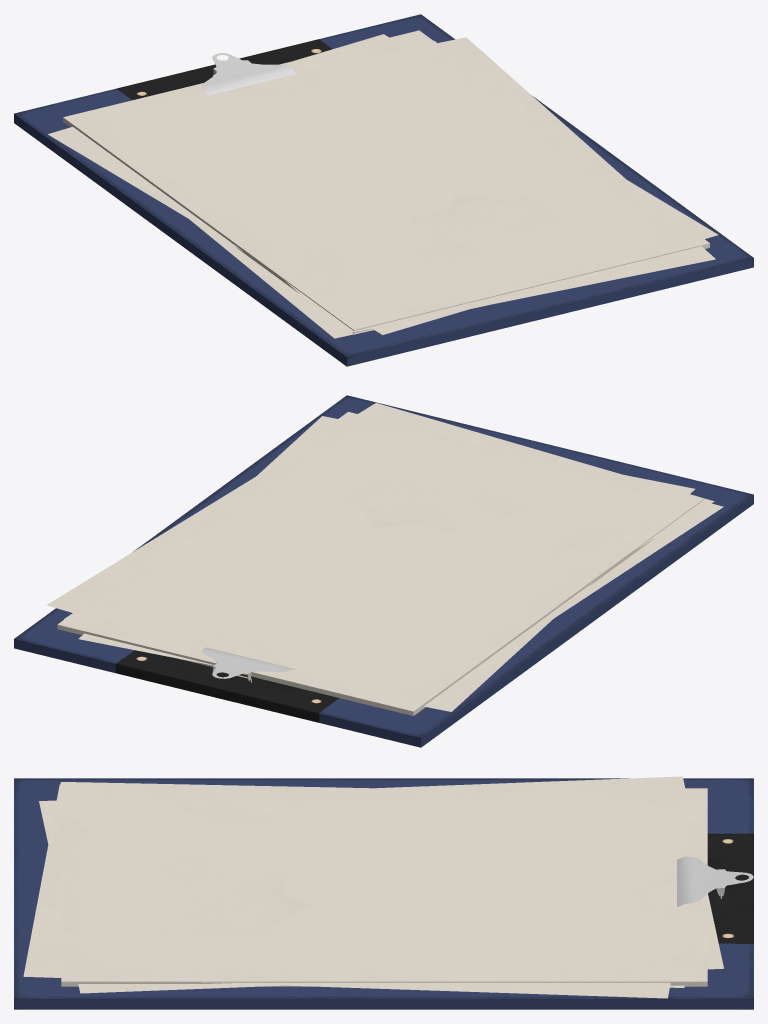
The model's file is clipboard.glb.
The picture shows the model from 3 angles, top to bottom: view 1: azimuth 30°, elevation 25°; view 2: azimuth 150°, elevation 25°; view 3: azimuth 270°, elevation 25°; orthographic projection. The views are drawn at different scales.
Visible parts, largest first — view 1: Clipboard_low; view 2: Clipboard_low; view 3: Clipboard_low.
Part boxes in pixels (x1,y1,x2,y2): Clipboard_low: (14, 14, 753, 366); Clipboard_low: (14, 395, 753, 747); Clipboard_low: (14, 776, 753, 1009).
Bounding box in the file's own units: 0.2439 × 0.0112 × 0.34.
Materials: 1 (1 with a texture image).
